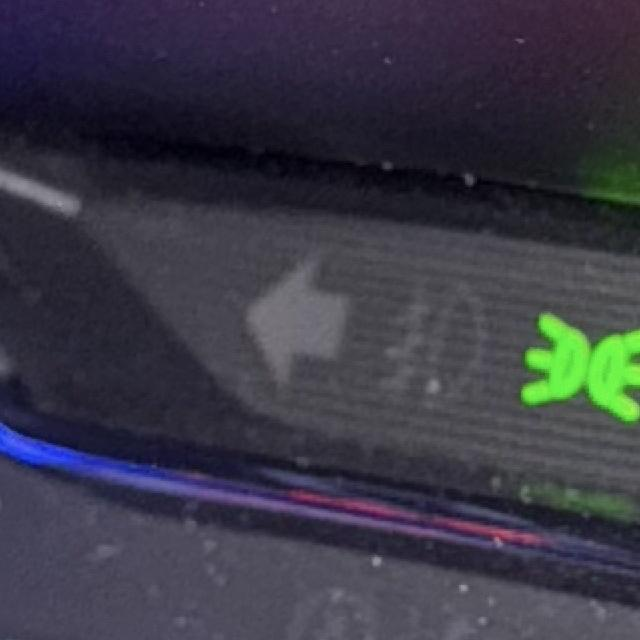Parking Light On: (521, 311, 640, 426)
